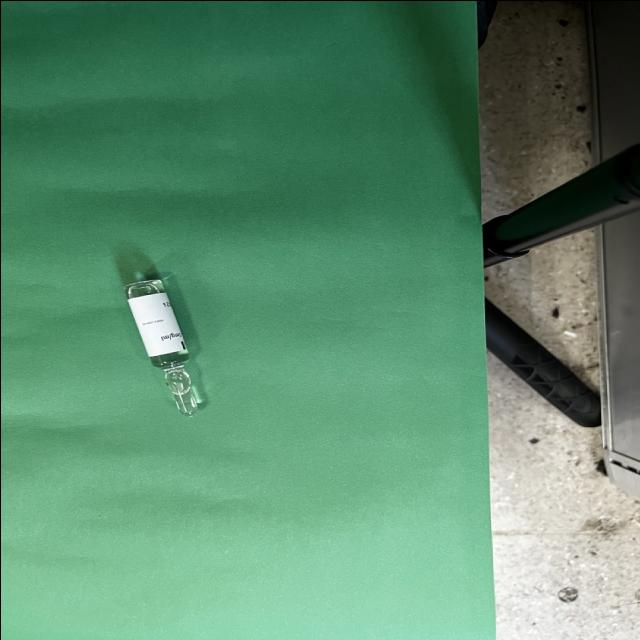Ampoules: (124, 278, 200, 416)
